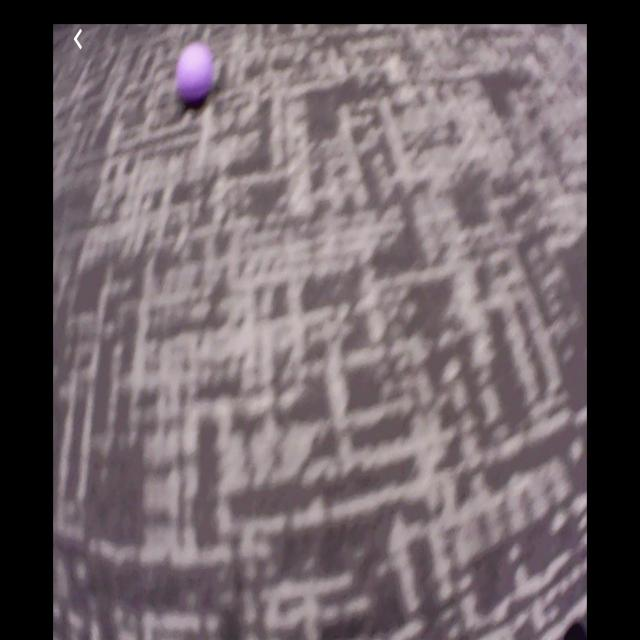ball: (175, 47, 215, 106)
